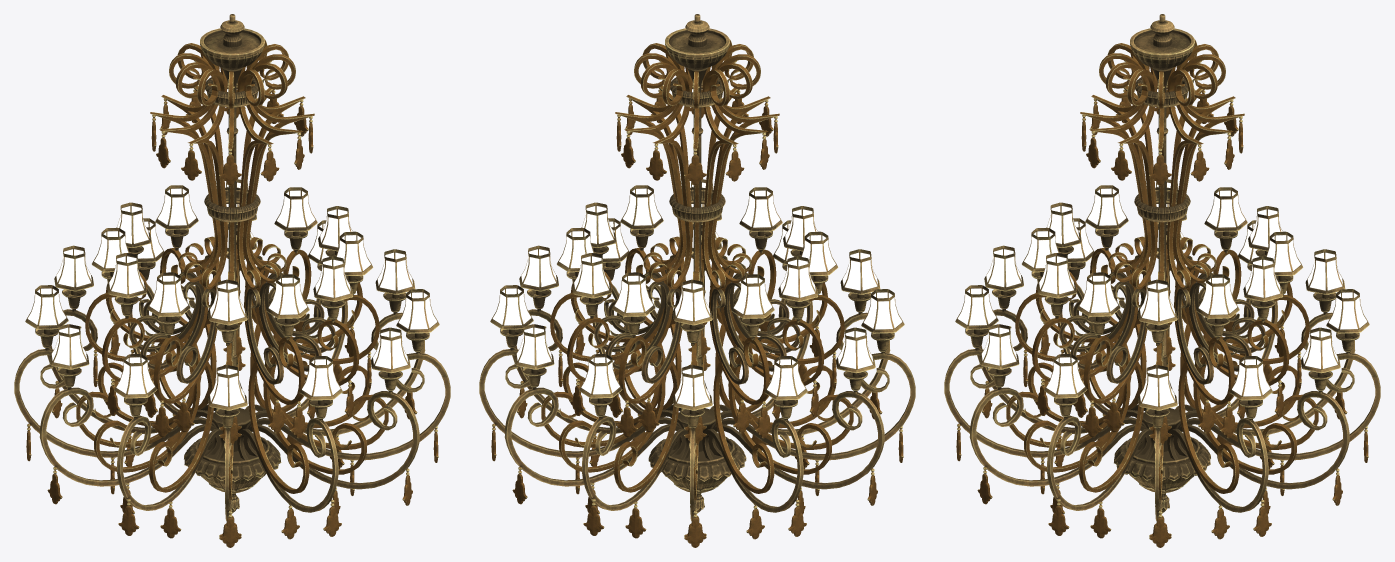
The model's file is SM_chandelier.fbx.
The picture shows the model from 3 angles, left to right: view 1: azimuth 30°, elevation 25°; view 2: azimuth 150°, elevation 25°; view 3: azimuth 270°, elevation 25°; orthographic projection.
Visible parts, largest first — view 1: SM_chandelier_LOD0; view 2: SM_chandelier_LOD0; view 3: SM_chandelier_LOD0.
Boxes of the visible parts, box(x1,y1,x2,y2) form: SM_chandelier_LOD0: box(14, 14, 450, 547); SM_chandelier_LOD0: box(479, 14, 915, 547); SM_chandelier_LOD0: box(944, 14, 1380, 547).
Size of the model in its own units: 329 by 329 by 415.
Materials: 1 (1 with a texture image).
